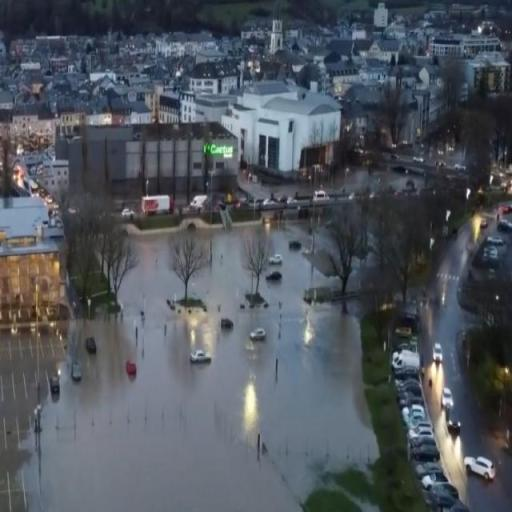flood: (25, 229, 378, 512), (239, 166, 432, 197), (410, 129, 464, 162)
house: (2, 189, 72, 334), (236, 88, 346, 180), (429, 34, 504, 60), (190, 62, 220, 96), (158, 92, 180, 126), (128, 101, 152, 126)
